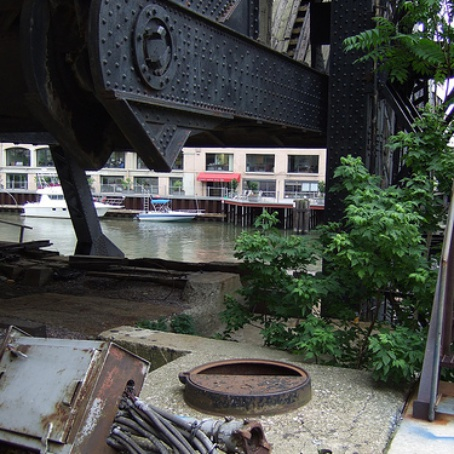boat: (14, 178, 113, 222), (131, 196, 200, 224)
building: (1, 147, 330, 219)
river: (15, 212, 353, 274)
vegetation: (243, 117, 454, 343)
